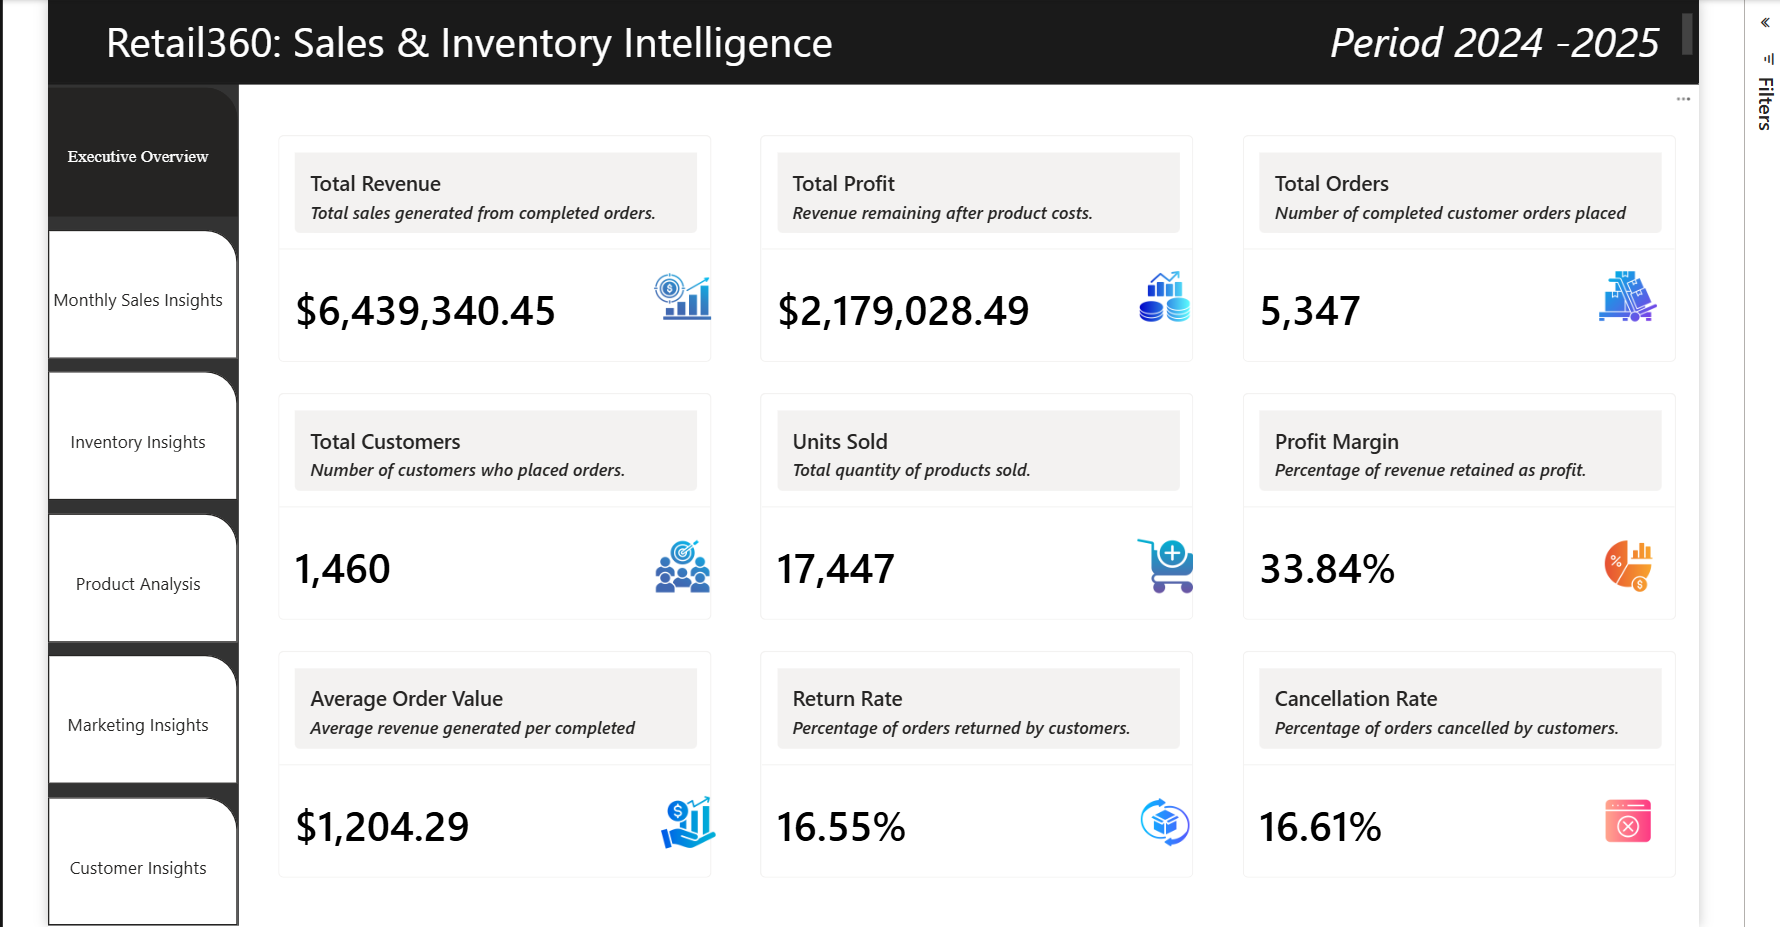

This screenshot's page, from the dashboard's own definition file:
{"tool":"powerbi","page":{"name":"Executive Overview","canvas":[1280,720],"ordinal":0},"visuals":[{"type":"cardVisual","fields":{"Data":["KPI Table.KPI Display Value"],"Rows":["KPI Table.KPI"]},"box":[147.6,67.5,1132.5,652.7],"z":0},{"type":"image","box":[465,207.5,53.8,45],"z":1000},{"type":"image","box":[837.5,207.5,57.5,45],"z":2000},{"type":"image","box":[1202.5,207.5,45,45],"z":3000},{"type":"image","box":[463.8,417.5,57.5,42.5],"z":4000},{"type":"image","box":[837.5,417.5,57.5,42.5],"z":5000},{"type":"image","box":[1202.5,417.5,45,42.5],"z":6000},{"type":"image","box":[463.8,616.2,66.2,42.5],"z":7000},{"type":"image","box":[837.5,616.2,57.5,42.5],"z":8000},{"type":"image","box":[1202.5,616.2,45,40],"z":9000},{"type":"textbox","box":[0,65.1,147.7,653.5],"z":10000},{"type":"textbox","box":[0,0,1280.3,65.3],"z":11000},{"type":"pageNavigator","box":[0,67.5,147.6,651.7],"z":21003}]}

Visuals, with their boxes on the page's 1280x720 design canvas (x1, y1, x2, y2). These are canvas units, not pixel positions in the 1780x927 screenshot, which may show the page scaled, cropped or inside an application window:
cardVisual - KPI Table.KPI Display Value x KPI Table.KPI: box=[148, 68, 1280, 720]
image: box=[465, 208, 519, 252]
image: box=[838, 208, 895, 252]
image: box=[1202, 208, 1248, 252]
image: box=[464, 418, 521, 460]
image: box=[838, 418, 895, 460]
image: box=[1202, 418, 1248, 460]
image: box=[464, 616, 530, 659]
image: box=[838, 616, 895, 659]
image: box=[1202, 616, 1248, 656]
textbox: box=[0, 65, 148, 719]
textbox: box=[0, 0, 1280, 65]
pageNavigator: box=[0, 68, 148, 719]
